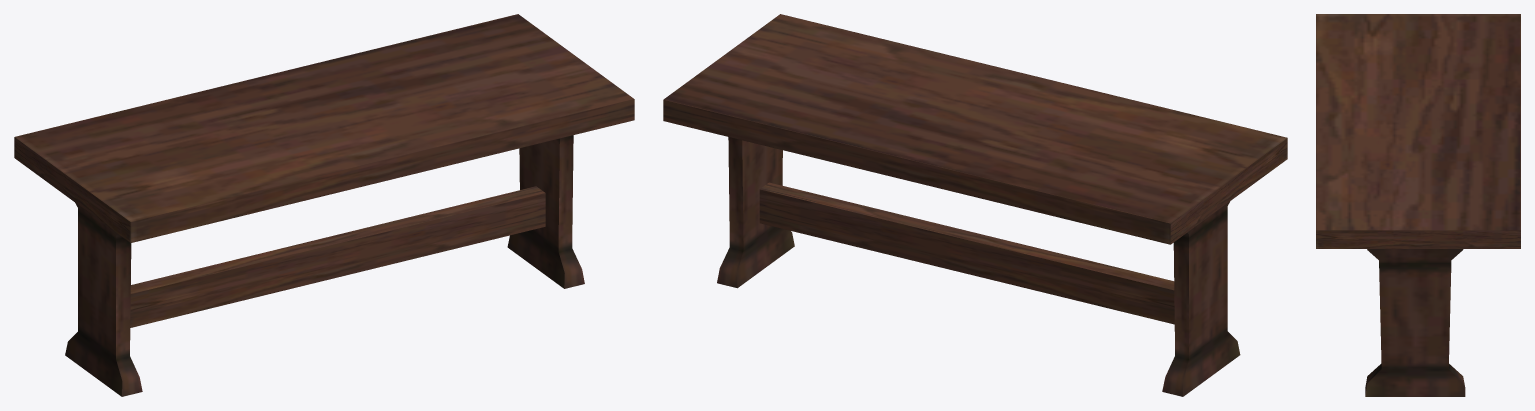
File: Table_DarkWood.glb
The picture shows the model from 3 angles, left to right: view 1: azimuth 30°, elevation 25°; view 2: azimuth 150°, elevation 25°; view 3: azimuth 270°, elevation 25°; orthographic projection. The views are drawn at different scales.
Visible parts, largest first — view 1: TABLE_DARKWOOD; view 2: TABLE_DARKWOOD; view 3: TABLE_DARKWOOD.
Part boxes in pixels (left/top/right/bottom): TABLE_DARKWOOD: left=14, top=14, right=634, bottom=396; TABLE_DARKWOOD: left=663, top=14, right=1287, bottom=396; TABLE_DARKWOOD: left=1316, top=14, right=1520, bottom=396.
Bounding box in the file's own units: 2.5 × 0.948 × 1.
1 material, 1 textured.
